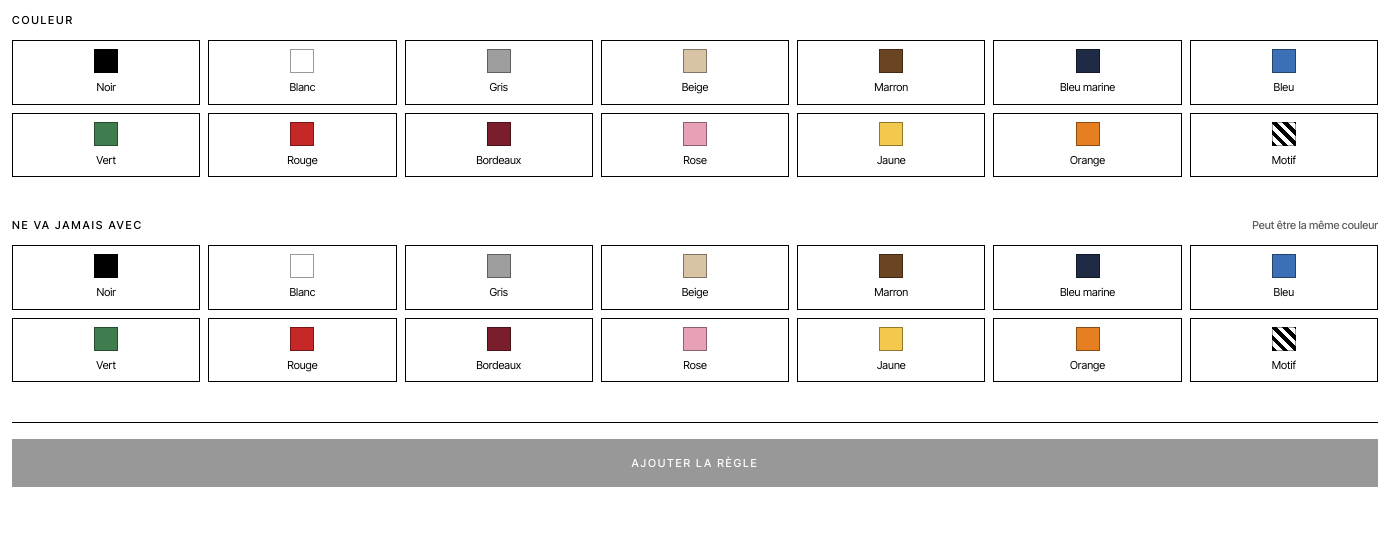
Test: ColorExclusionForm › prevents adding a rule that already exists, whatever the order
Click the 1st radio button labelled "Marron" at [891, 72], box x1=797 y1=40 x2=985 y2=104
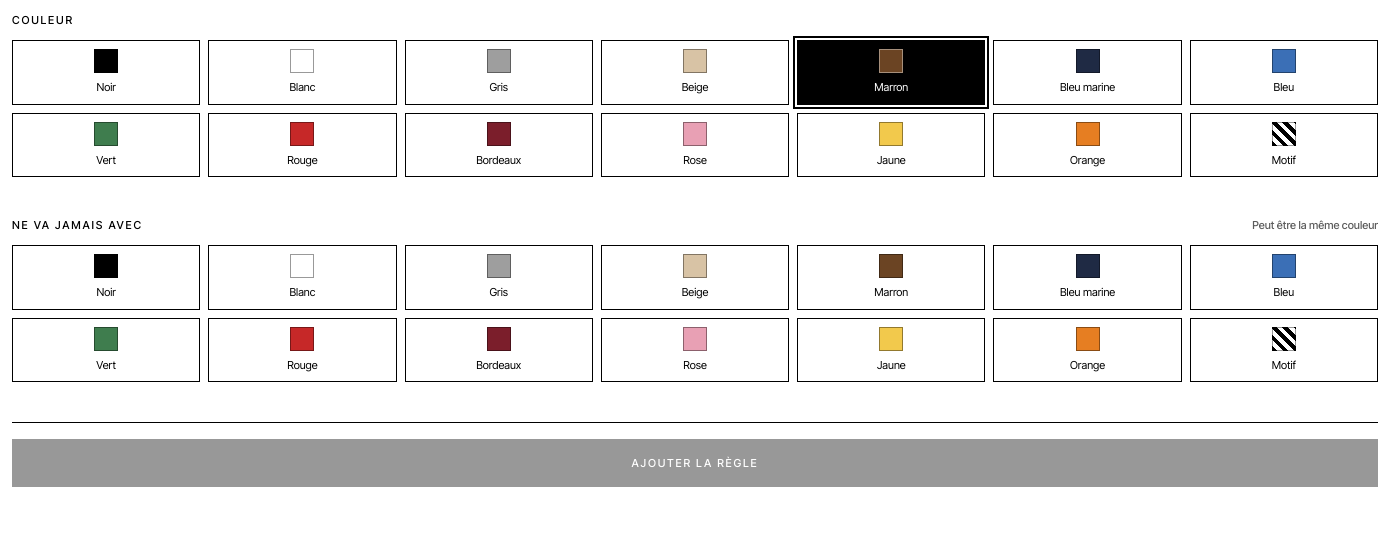
Click the radio button labelled "Noir" below "Ne va jamais avec" at [106, 277], box x1=12 y1=245 x2=200 y2=310
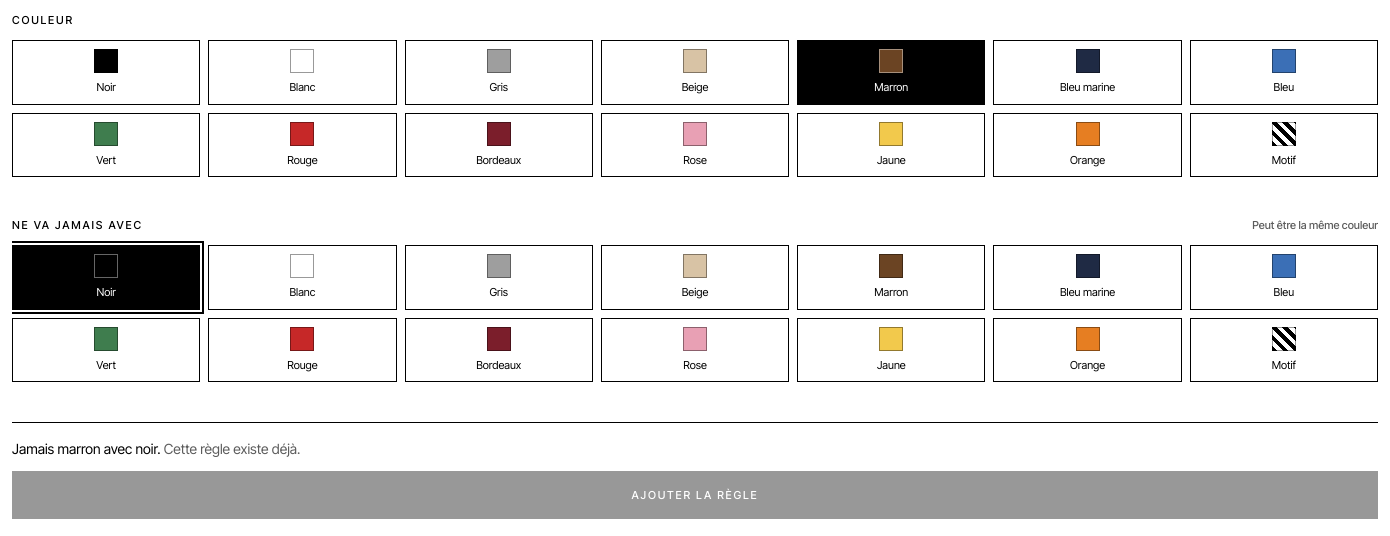
Expected: the button "Ajouter la règle" is disabled, x1=12 y1=471 x2=1378 y2=519
Expected: the text "Cette règle existe déjà." is shown, x1=160 y1=440 x2=300 y2=457
